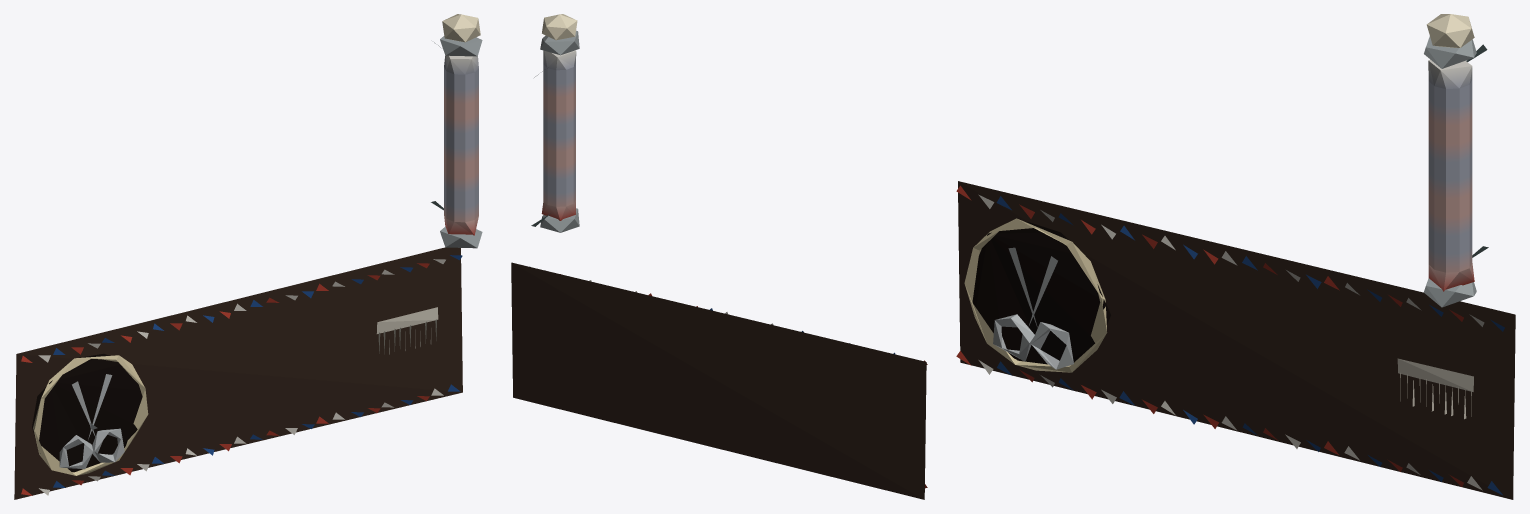
The model's file is bang_hot_toc_anh_ba_40.glb.
3 renders of one model, left to right at view 1: azimuth 30°, elevation 25°; view 2: azimuth 150°, elevation 25°; view 3: azimuth 330°, elevation 25°, orthographic. The views are drawn at different scales.
Parts seen in each view (by area): view 1: bang_hot_toc_anh_ba_40; view 2: bang_hot_toc_anh_ba_40; view 3: bang_hot_toc_anh_ba_40.
Part boxes in pixels (left/top/right/bottom): bang_hot_toc_anh_ba_40: left=14, top=14, right=482, bottom=499; bang_hot_toc_anh_ba_40: left=511, top=14, right=927, bottom=499; bang_hot_toc_anh_ba_40: left=956, top=14, right=1515, bottom=499.
Bounding box in the file's own units: 3.8 × 3.27 × 0.591.
